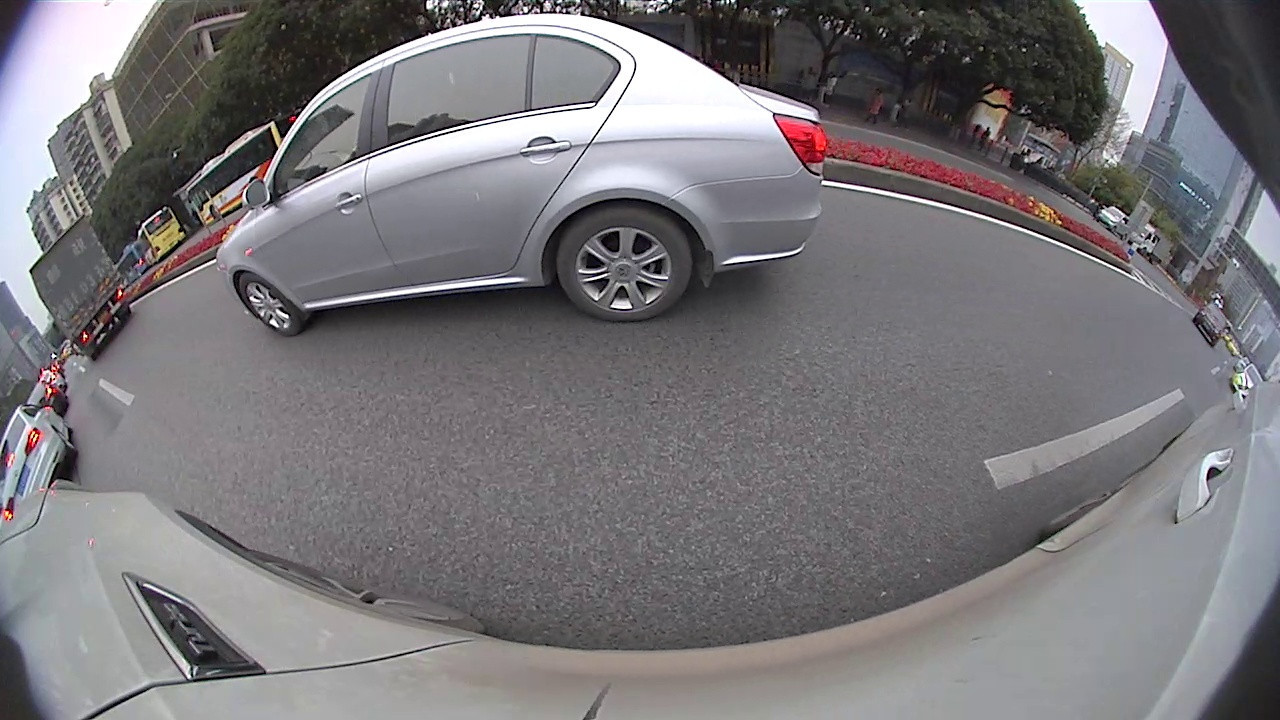bus: (178, 119, 293, 228), (132, 204, 193, 268)
car: (214, 11, 826, 338), (3, 404, 81, 520), (23, 379, 72, 422), (1192, 302, 1230, 350), (1229, 361, 1270, 404)
front: (233, 269, 307, 337)
rear: (552, 197, 696, 325), (54, 430, 78, 456)
truck: (27, 212, 133, 361)
